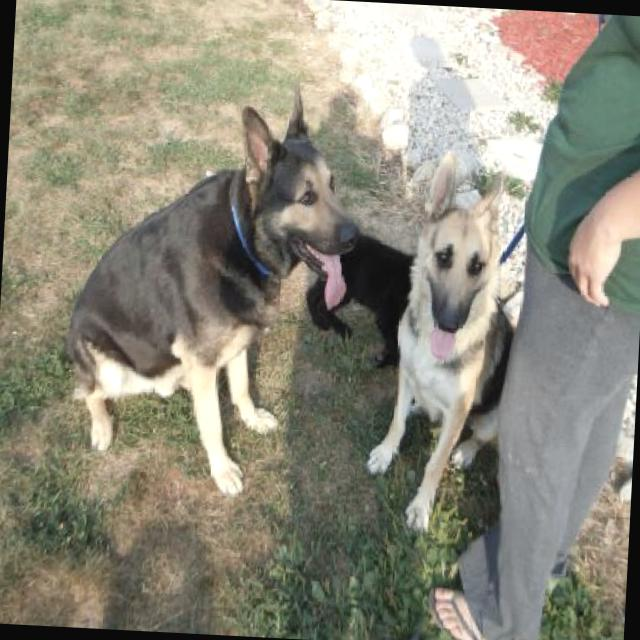Person: (428, 7, 640, 640)
